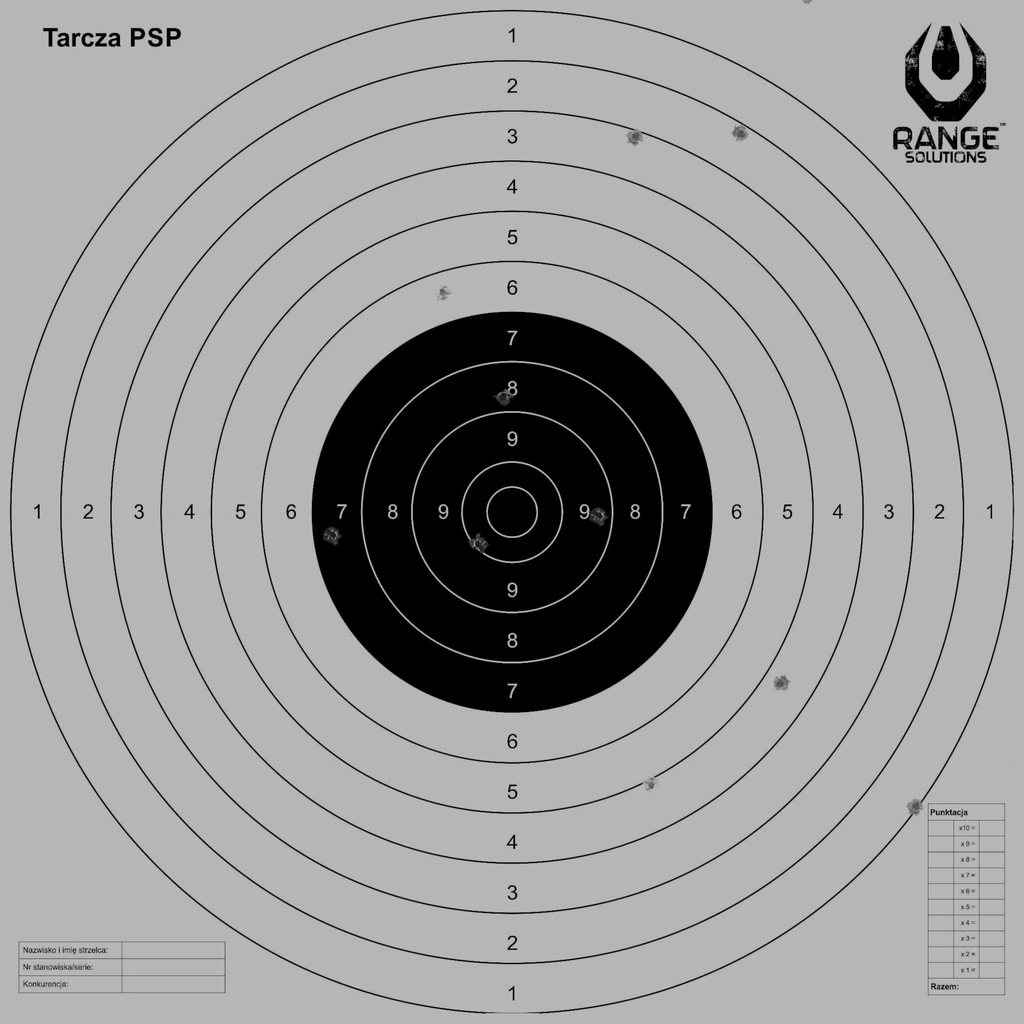0 punktow: (217, 16, 235, 35)
1 punkt: (906, 797, 925, 816)
10 punktow: (470, 535, 488, 554)
2 punkty: (732, 124, 750, 143)
3 punkty: (626, 128, 645, 146)
4 punkty: (772, 674, 790, 693)
5 punktow: (642, 776, 660, 794)
6 punktow: (434, 283, 452, 301)
7 punktow: (324, 526, 342, 544)
8 punktow: (494, 388, 513, 406)
9 punktow: (590, 507, 608, 525)
